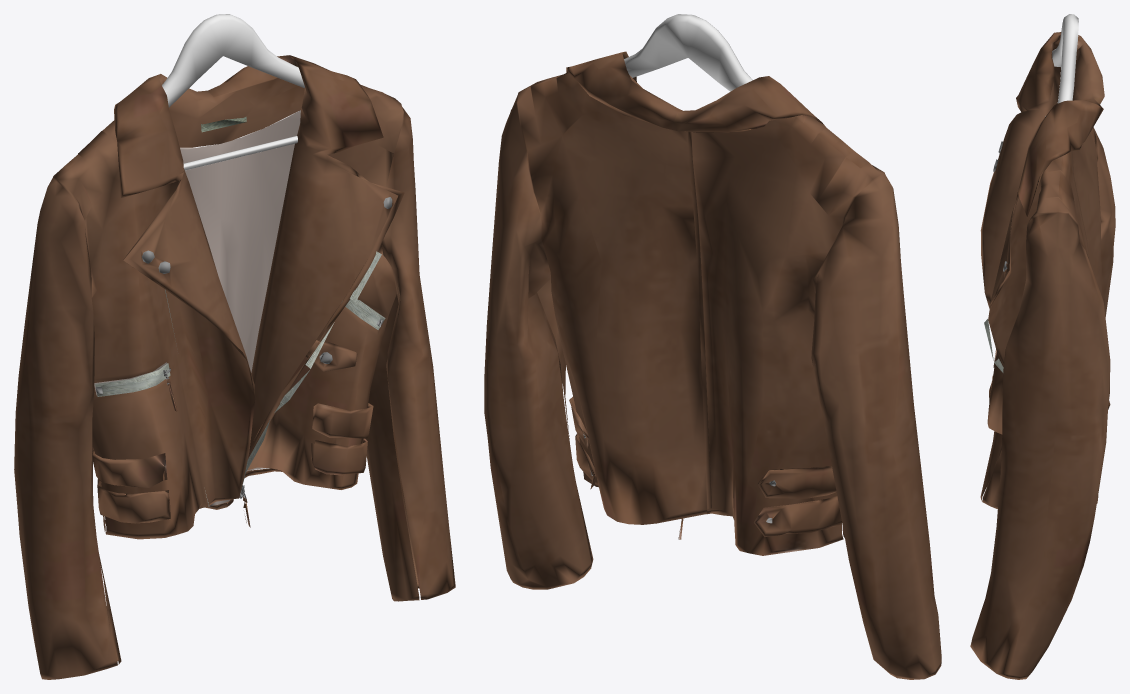
File: hvtop_jak.glb
3 views of the same model, side by side, from view 1: azimuth 30°, elevation 25°; view 2: azimuth 150°, elevation 25°; view 3: azimuth 270°, elevation 25° (orthographic). The views are drawn at different scales.
Parts seen in each view (by area): view 1: BP_jak; view 2: BP_jak; view 3: BP_jak.
Part boxes in pixels (box(x1,y1,x2,y2)): BP_jak: box(14, 14, 455, 679); BP_jak: box(484, 14, 941, 679); BP_jak: box(970, 14, 1115, 679).
Size of the model in its own units: 0.5054 by 0.7118 by 0.1638.
Materials: 7 (4 with a texture image).
